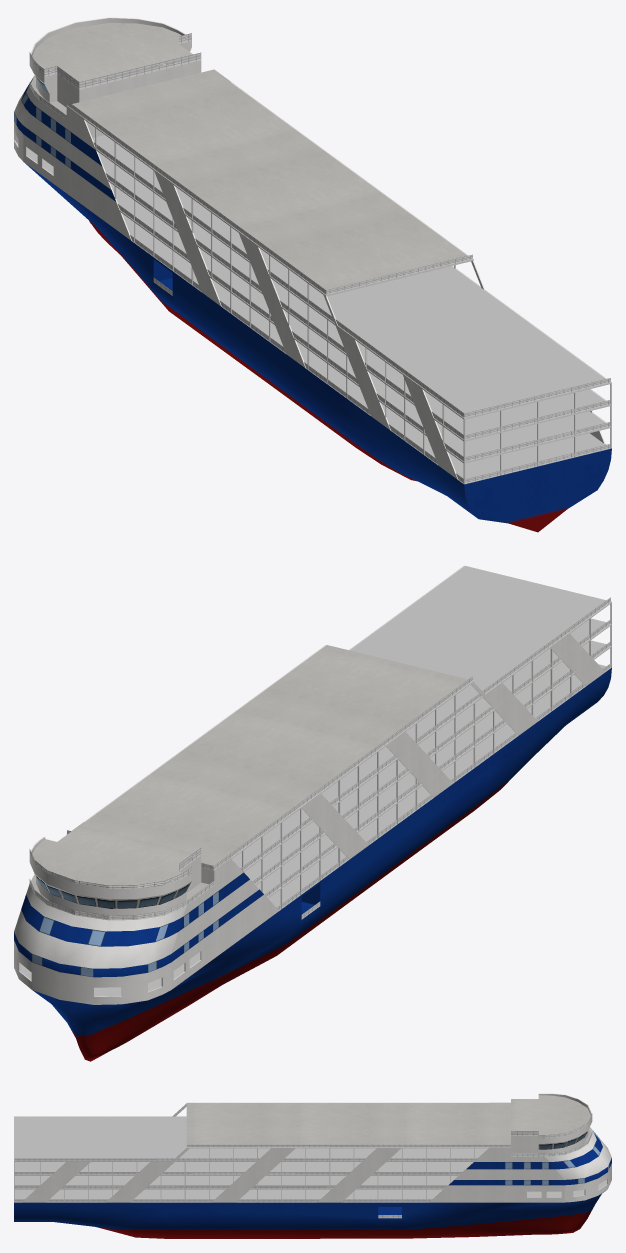
Rendered from ship7.glb.
The picture shows the model from 3 angles, top to bottom: view 1: azimuth 30°, elevation 25°; view 2: azimuth 150°, elevation 25°; view 3: azimuth 270°, elevation 25°; orthographic projection. The views are drawn at different scales.
Parts seen in each view (by area): view 1: gzc; view 2: gzc; view 3: gzc.
Part boxes in pixels (<box>): gzc: <box>14,17,611,532</box>; gzc: <box>14,565,611,1061</box>; gzc: <box>14,1093,611,1238</box>.
Bounding box in the file's own units: 40 × 50.57 × 224.
7 materials, 6 textured.
